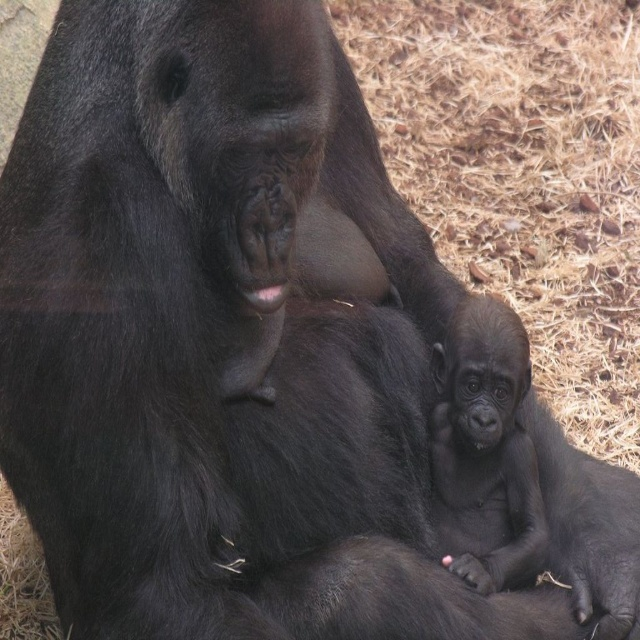Monkey: (21, 24, 633, 627)
